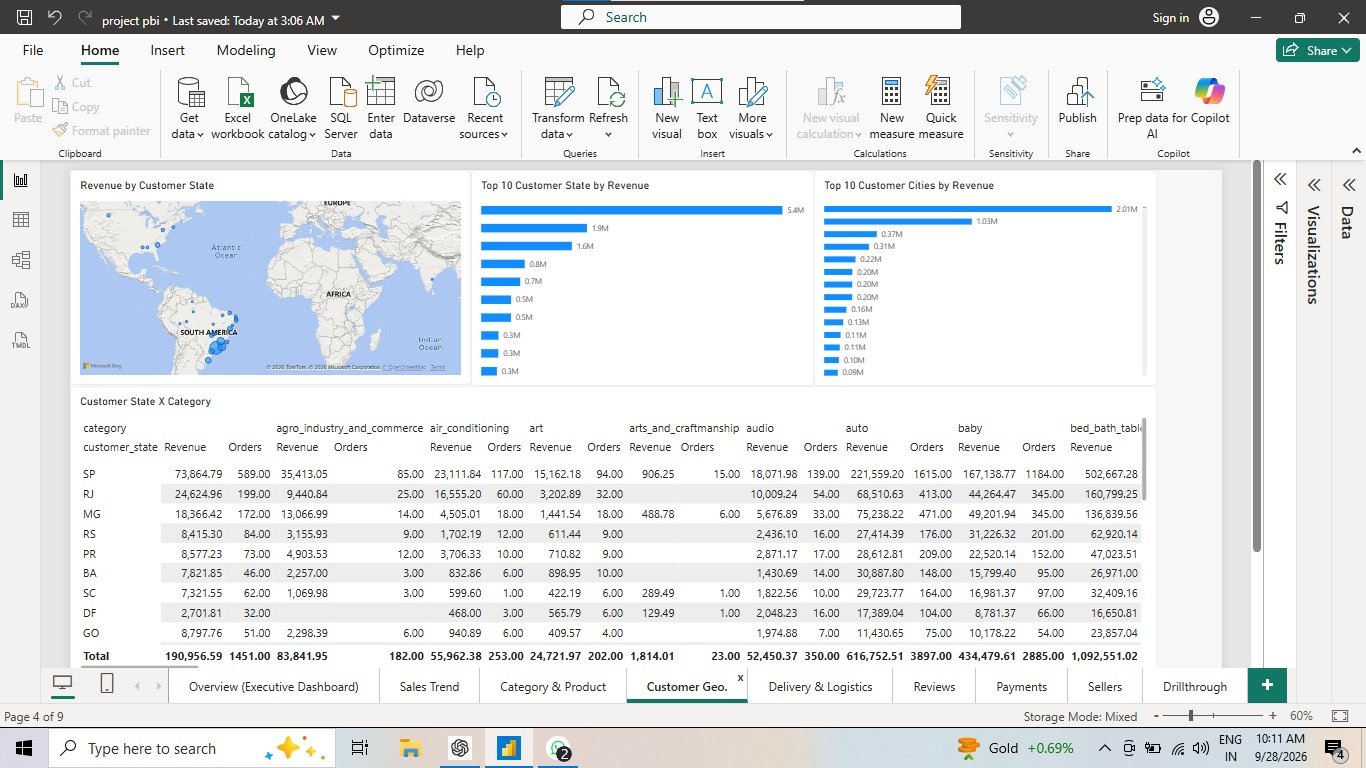

The page's visual inventory and layout, read from the dashboard file:
{"tool":"powerbi","page":{"name":"Customer Geo.","canvas":[1920,1080],"ordinal":3},"visuals":[{"type":"map","title":"Revenue by Customer State","fields":{"Category":["public bi_fact_sales.customer_state"],"Size":["public bi_fact_sales.Revenue"]},"box":[0,0,667.7,357.8],"z":0},{"type":"barChart","title":"Top 10 Customer State by Revenue","fields":{"Category":["public bi_fact_sales.customer_state"],"Y":["public bi_fact_sales.Revenue"]},"box":[667.7,0,572,360.3],"z":1},{"type":"pivotTable","title":"Customer State X Category","fields":{"Columns":["public bi_fact_sales.category"],"Rows":["public bi_fact_sales.customer_state"],"Values":["public bi_fact_sales.Revenue","public bi_fact_sales.Orders"]},"box":[0,360.3,1811.7,491.3],"z":3},{"type":"barChart","title":"Top 10 Customer Cities by Revenue","fields":{"Category":["public bi_fact_sales.customer_city"],"Y":["public bi_fact_sales.Revenue"]},"box":[1239.4,0,572,360.3],"z":4}]}

Visuals, with their boxes on the page's 1920x1080 design canvas (x1, y1, x2, y2). These are canvas units, not pixel positions in the 1366x768 screenshot, which may show the page scaled, cropped or inside an application window:
"Revenue by Customer State" map: x1=0, y1=0, x2=668, y2=358
"Top 10 Customer State by Revenue" barChart: x1=668, y1=0, x2=1240, y2=360
"Customer State X Category" pivotTable: x1=0, y1=360, x2=1812, y2=852
"Top 10 Customer Cities by Revenue" barChart: x1=1239, y1=0, x2=1811, y2=360
